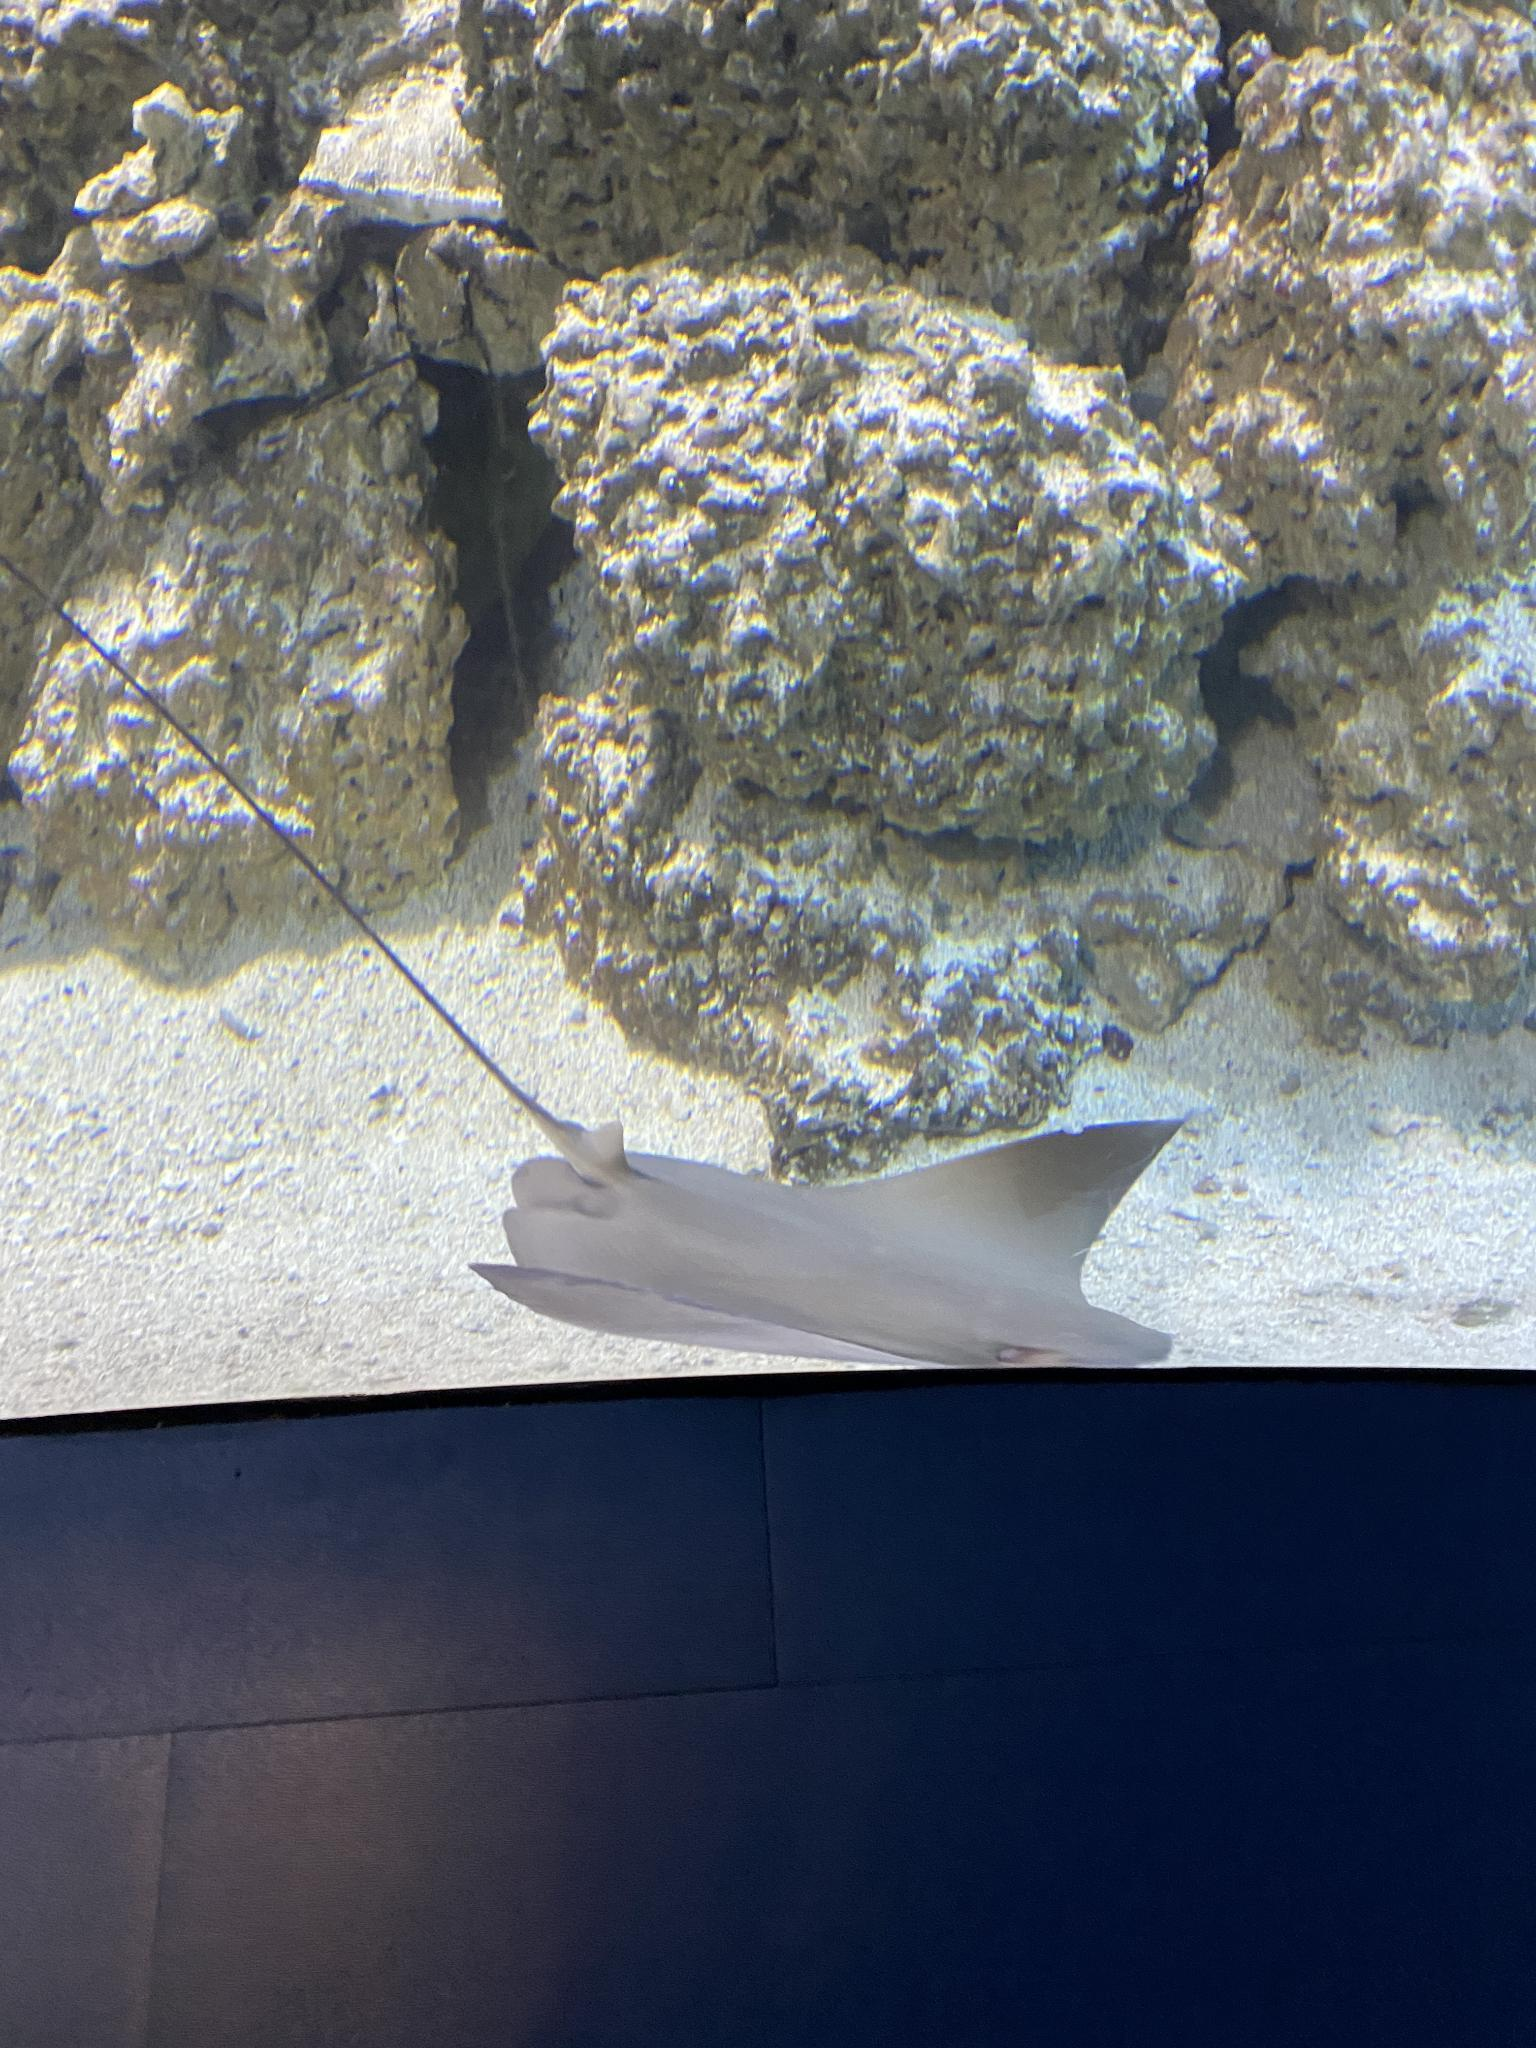stingray: (460, 1119, 1181, 1380)
